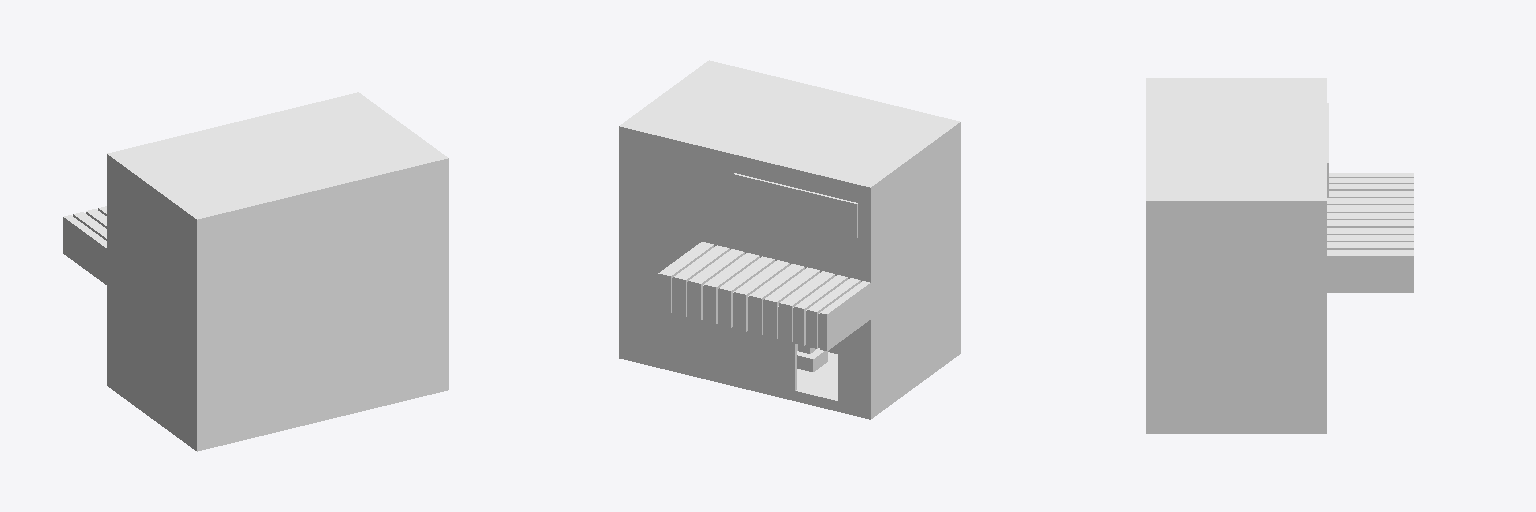
Rendered from Builder.obj.
The picture shows the model from 3 angles: view 1: azimuth 30°, elevation 25°; view 2: azimuth 150°, elevation 25°; view 3: azimuth 270°, elevation 25°; orthographic projection.
Size of the model in its own units: 100 by 88 by 92.